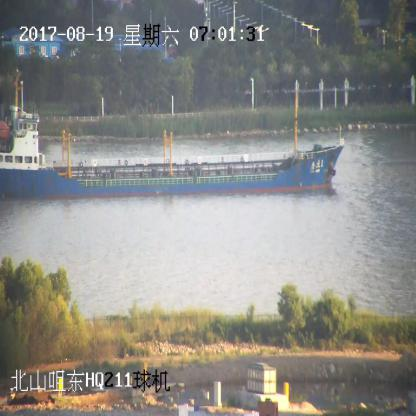Bulk Carrier: (0, 82, 342, 195)
